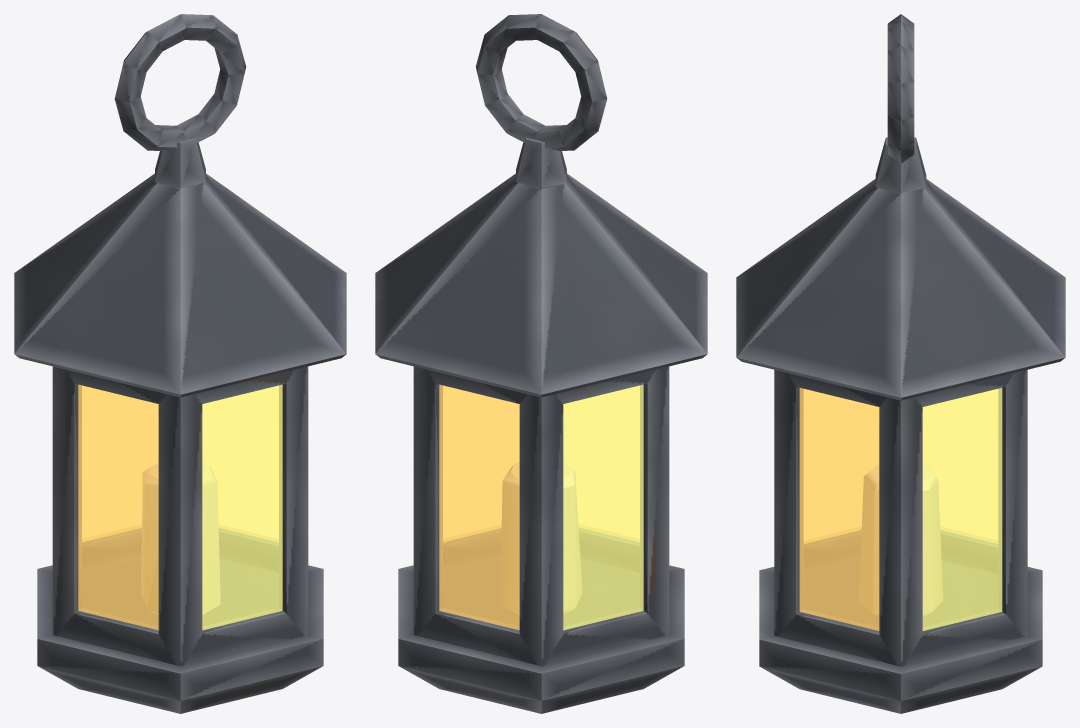
File: iron_lantern.glb
The picture shows the model from 3 angles, left to right: view 1: azimuth 30°, elevation 25°; view 2: azimuth 150°, elevation 25°; view 3: azimuth 270°, elevation 25°; orthographic projection.
Parts seen in each view (by area): view 1: roof, frame, glass, base, ring, candle, knob; view 2: roof, frame, glass, base, ring, candle, knob; view 3: roof, frame, glass, base, candle, ring, knob.
Boxes of the visible parts, left/top/right/bottom form: roof: left=14, top=173, right=346, bottom=397; frame: left=52, top=366, right=308, bottom=666; glass: left=78, top=384, right=282, bottom=630; base: left=37, top=559, right=323, bottom=713; ring: left=114, top=14, right=246, bottom=150; candle: left=141, top=462, right=220, bottom=614; knob: left=155, top=137, right=205, bottom=188; roof: left=375, top=173, right=707, bottom=397; frame: left=413, top=366, right=669, bottom=666; glass: left=439, top=384, right=643, bottom=630; base: left=398, top=559, right=684, bottom=713; ring: left=475, top=14, right=607, bottom=150; candle: left=500, top=462, right=581, bottom=614; knob: left=516, top=137, right=566, bottom=188; roof: left=736, top=179, right=1065, bottom=400; frame: left=774, top=370, right=1027, bottom=666; glass: left=799, top=388, right=1002, bottom=630; base: left=759, top=561, right=1042, bottom=713; candle: left=859, top=464, right=942, bottom=616; ring: left=887, top=14, right=914, bottom=163; knob: left=875, top=137, right=926, bottom=193.
Bounding box in the file's own units: 0.26 × 0.486 × 0.2252.
4 materials, 4 textured.
